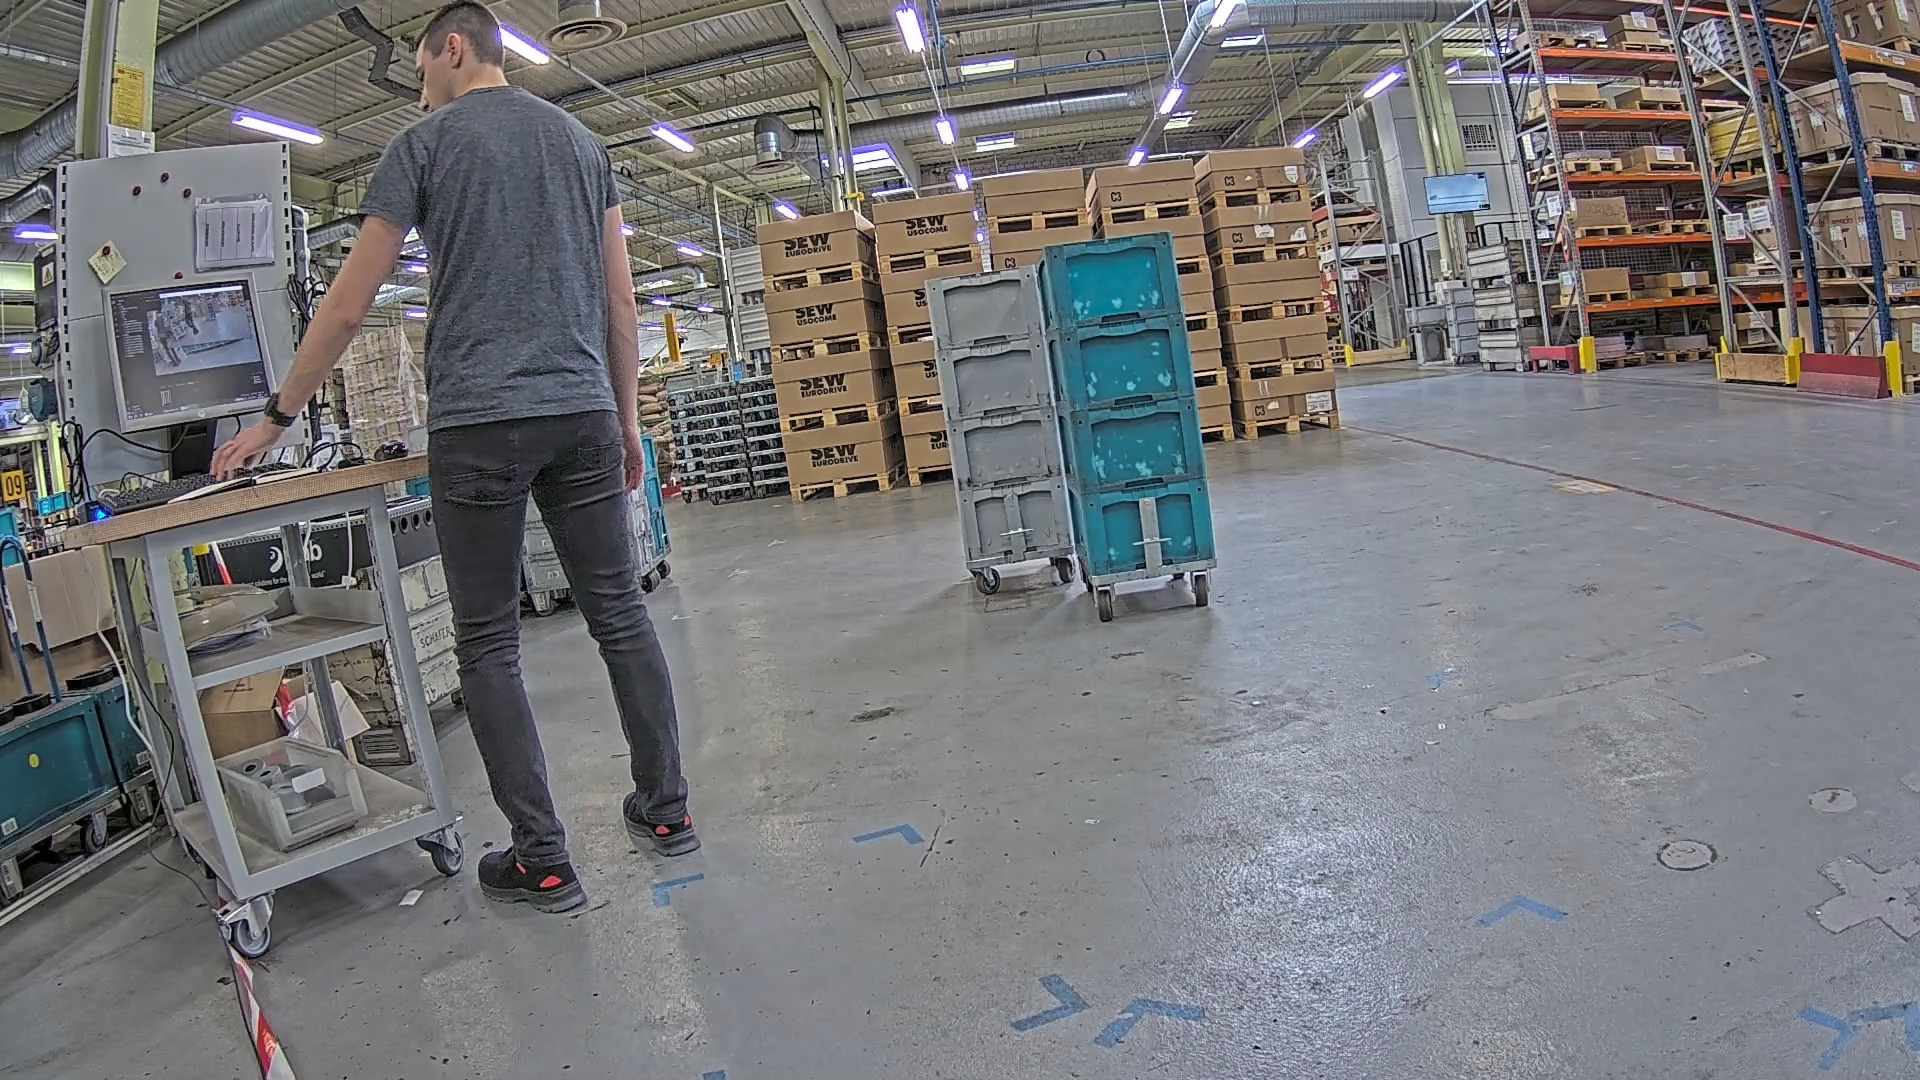4G: (916, 260, 1073, 562)
B4: (1036, 231, 1217, 582), (1121, 228, 1126, 233)
